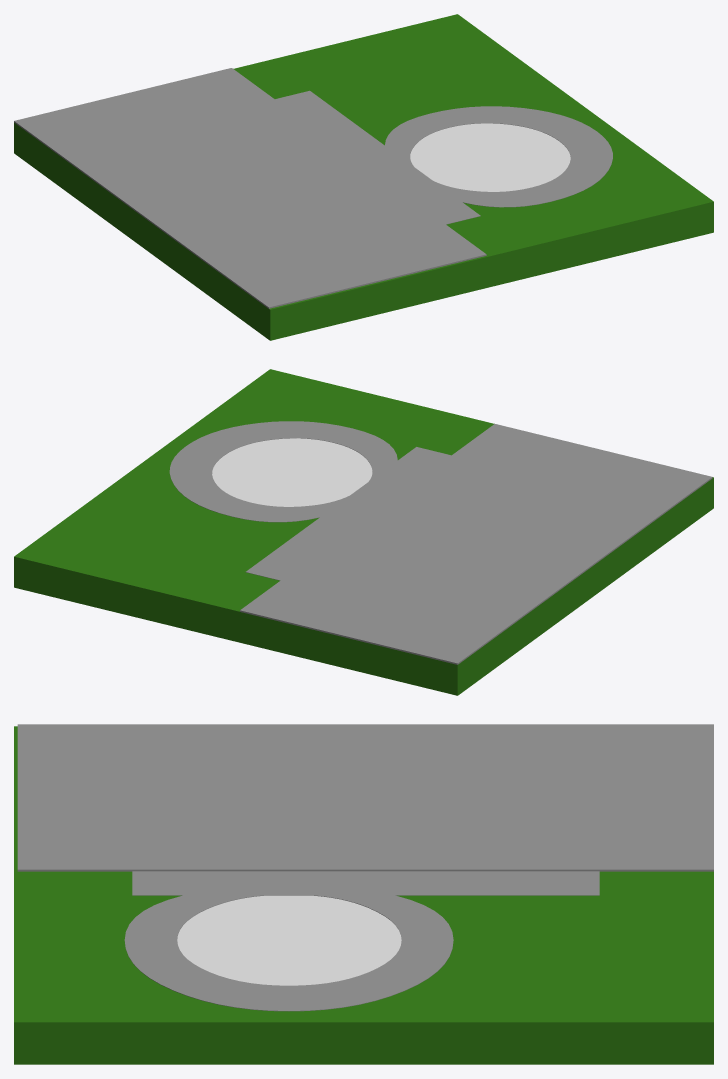
The model's file is TerrainB.FBX.
The picture shows the model from 3 angles, top to bottom: view 1: azimuth 30°, elevation 25°; view 2: azimuth 150°, elevation 25°; view 3: azimuth 270°, elevation 25°; orthographic projection. The views are drawn at different scales.
Visible parts, largest first — view 1: Box002, Box028, Text028, Cone001; view 2: Box002, Box028, Text028, Cone001; view 3: Box028, Box002, Text028, Cone001.
Boxes of the visible parts, box(x1,y1,x2,y2) form: Box002: box(14, 14, 713, 340); Box028: box(14, 68, 486, 308); Text028: box(275, 90, 612, 224); Cone001: box(410, 123, 570, 191); Box002: box(14, 369, 713, 695); Box028: box(240, 424, 712, 664); Text028: box(169, 421, 451, 580); Cone001: box(212, 438, 372, 506); Box028: box(17, 724, 713, 871); Box002: box(14, 726, 713, 1064); Text028: box(124, 871, 599, 1011); Cone001: box(177, 895, 401, 985).
Bounding box in the file's own units: 150 × 10.47 × 150.
